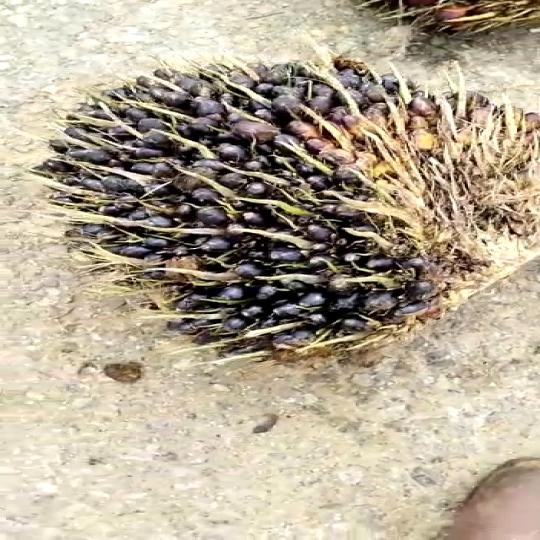mentah: (45, 62, 538, 357)
